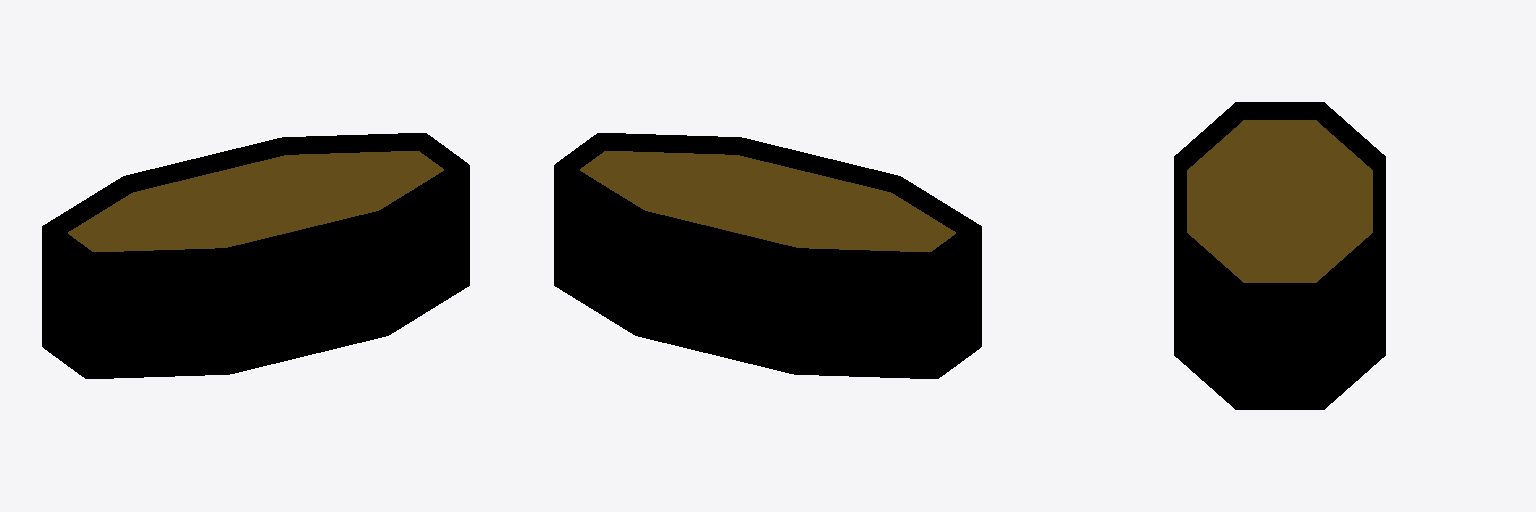
3 views of the same model, side by side, from view 1: azimuth 30°, elevation 25°; view 2: azimuth 150°, elevation 25°; view 3: azimuth 270°, elevation 25° (orthographic).
Parts seen in each view (by area): view 1: path440, path440_1; view 2: path440, path440_1; view 3: path440, path440_1.
Boxes of the visible parts, x1=… form: path440: x1=42, y1=133, x2=469, y2=378; path440_1: x1=68, y1=151, x2=443, y2=251; path440: x1=554, y1=133, x2=981, y2=378; path440_1: x1=580, y1=151, x2=955, y2=251; path440: x1=1174, y1=102, x2=1385, y2=409; path440_1: x1=1187, y1=120, x2=1372, y2=282.
Size of the model in its own units: 0.0197 by 0.0059 by 0.0094.